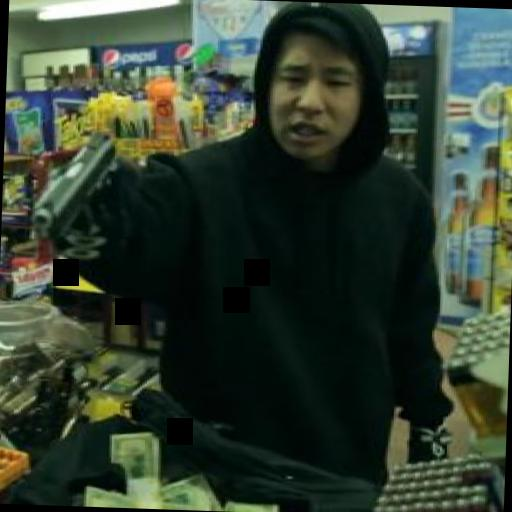Handgun: (20, 126, 136, 238)
